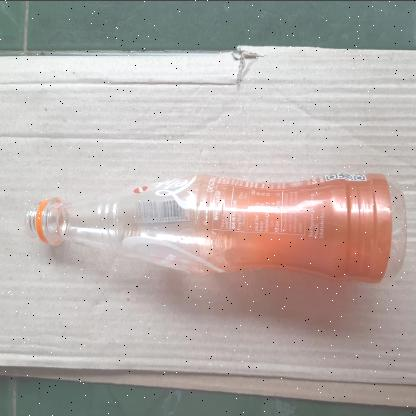Plastic Bottle: (26, 172, 410, 286)
